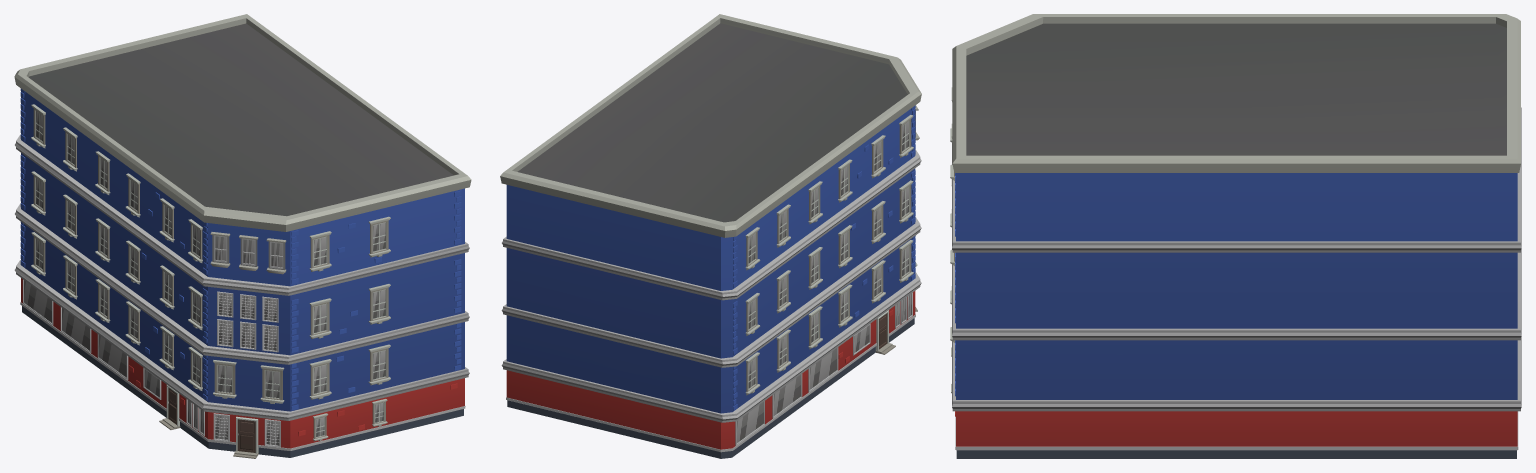
The model's file is Building_25_9_B.glb.
The picture shows the model from 3 angles, left to right: view 1: azimuth 30°, elevation 25°; view 2: azimuth 150°, elevation 25°; view 3: azimuth 270°, elevation 25°; orthographic projection. The views are drawn at different scales.
Visible parts, largest first — view 1: Building_25_9_B; view 2: Building_25_9_B; view 3: Building_25_9_B.
Part boxes in pixels (left/top/right/bottom): Building_25_9_B: left=14, top=14, right=471, bottom=458; Building_25_9_B: left=500, top=14, right=921, bottom=458; Building_25_9_B: left=950, top=14, right=1521, bottom=458.
Size of the model in its own units: 16.83 by 15.96 by 27.29.
3 materials, 3 textured.
